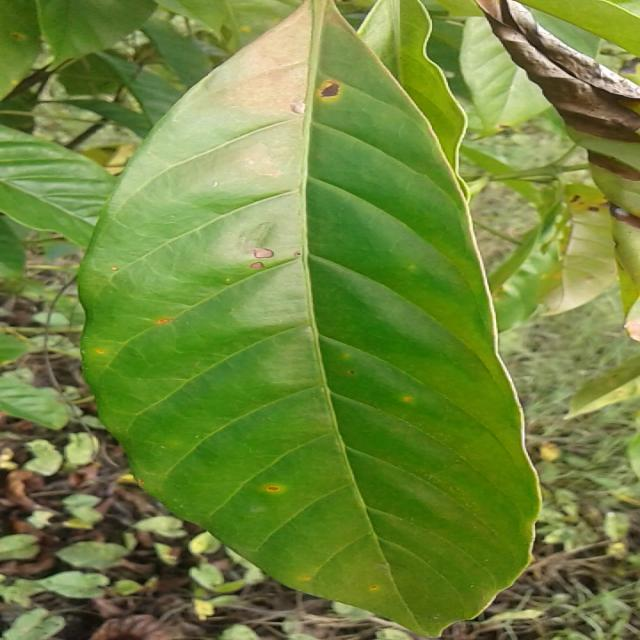Enfermedad-Roya: (91, 0, 540, 637)
